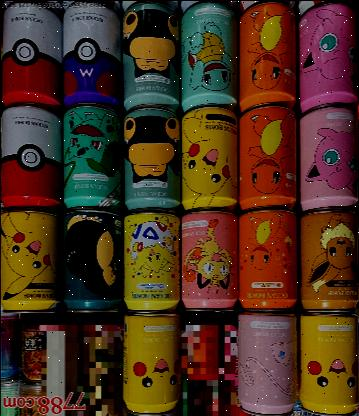Can: (1, 2, 63, 115), (297, 2, 357, 113), (1, 104, 62, 213), (62, 1, 121, 111), (62, 104, 122, 212), (238, 1, 296, 112), (121, 2, 179, 112), (179, 2, 237, 111), (298, 106, 357, 213), (0, 210, 61, 312), (237, 311, 296, 416), (298, 313, 358, 416), (238, 105, 296, 211), (62, 209, 122, 311), (180, 106, 237, 212), (123, 107, 180, 213), (299, 210, 358, 311), (238, 209, 297, 310), (123, 211, 179, 313), (180, 210, 237, 310), (123, 314, 179, 413)
